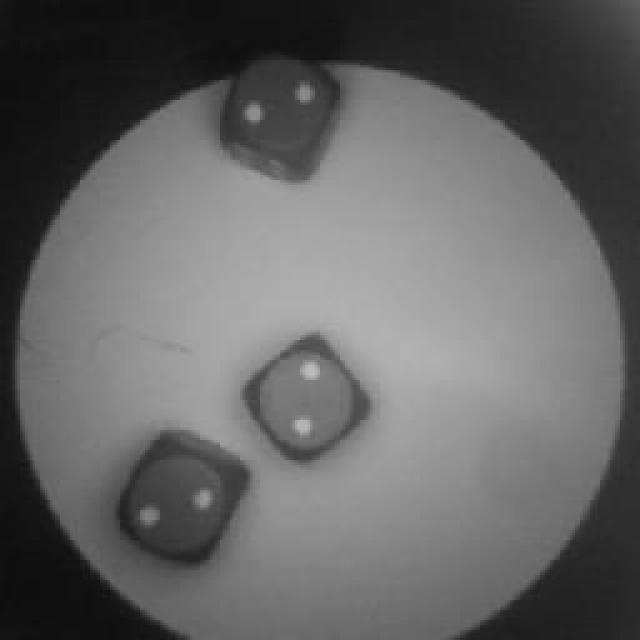dice_2: (225, 47, 337, 165), (252, 343, 360, 455), (127, 448, 235, 560)
